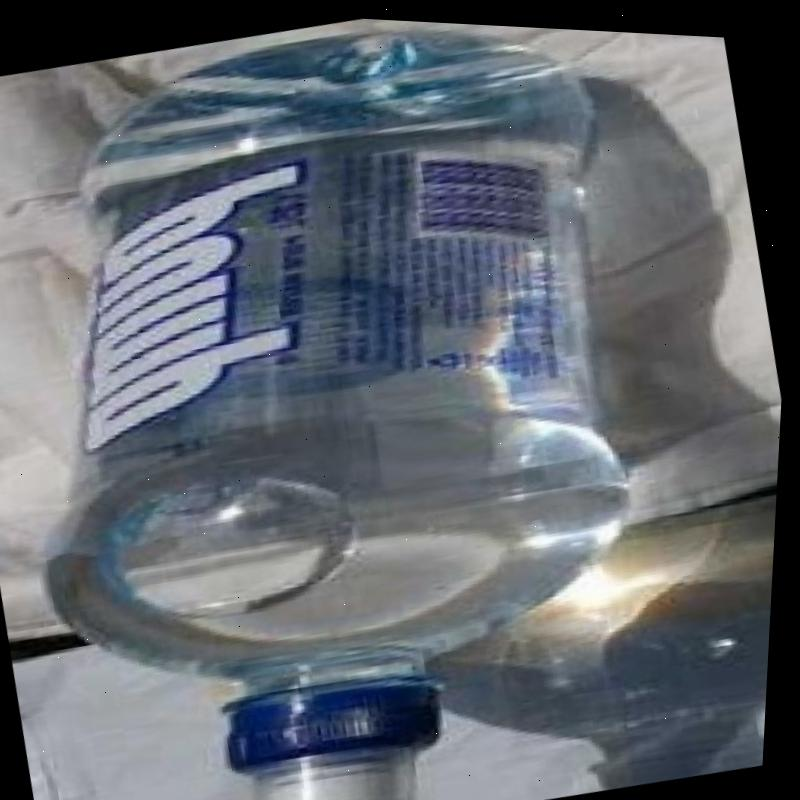botella: (0, 0, 747, 800)
